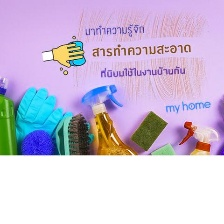cleaning_solution: (76, 82, 154, 203), (154, 119, 220, 221), (0, 74, 21, 195)
